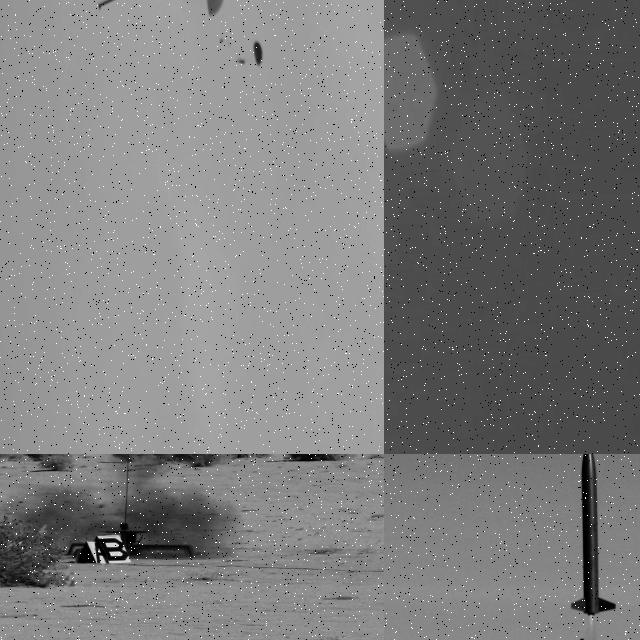Rocket: (569, 454, 618, 618), (98, 0, 137, 8)
